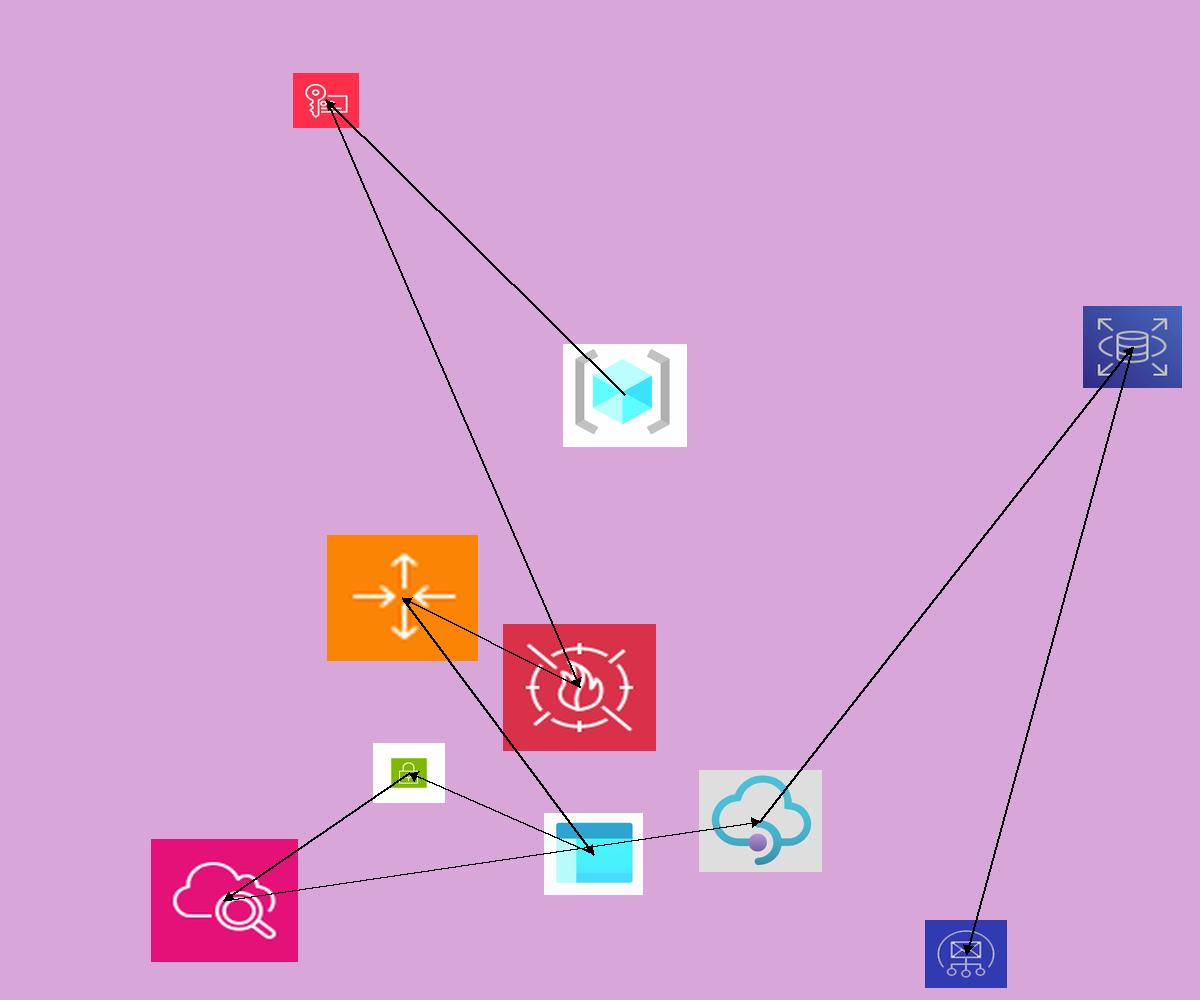AWS-CloudWatch: (151, 839, 298, 962)
AWS-Key-Management-Service: (293, 73, 359, 128)
AWS-Public-subnet: (373, 743, 445, 803)
AWS-RDS: (1083, 306, 1182, 388)
AWS-Scaling-group: (327, 535, 478, 661)
AWS-Simple-Email-Service: (925, 920, 1007, 988)
AWS-WAF: (503, 624, 656, 751)
Azure_api_gateway: (699, 770, 822, 872)
Azure_management-portal: (544, 813, 643, 895)
Azure_resource_group: (563, 344, 687, 447)
